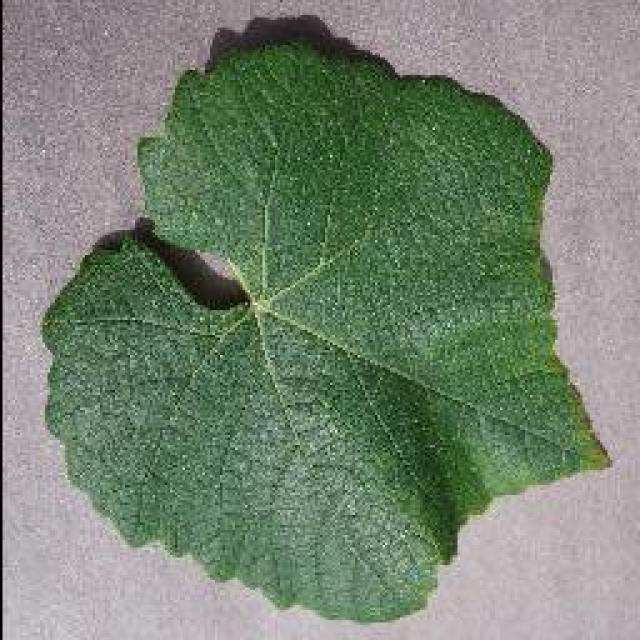Grape___healthy: (38, 36, 614, 624)
